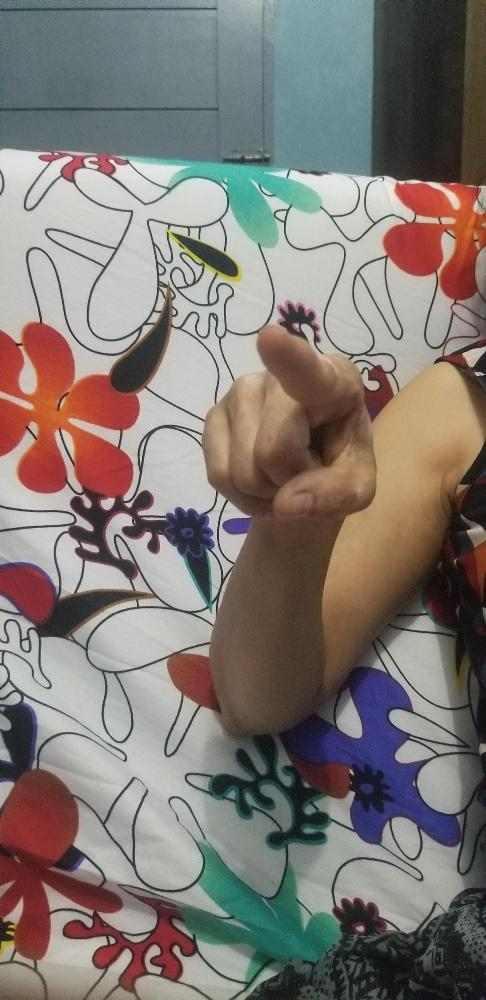z: (198, 317, 378, 524)
